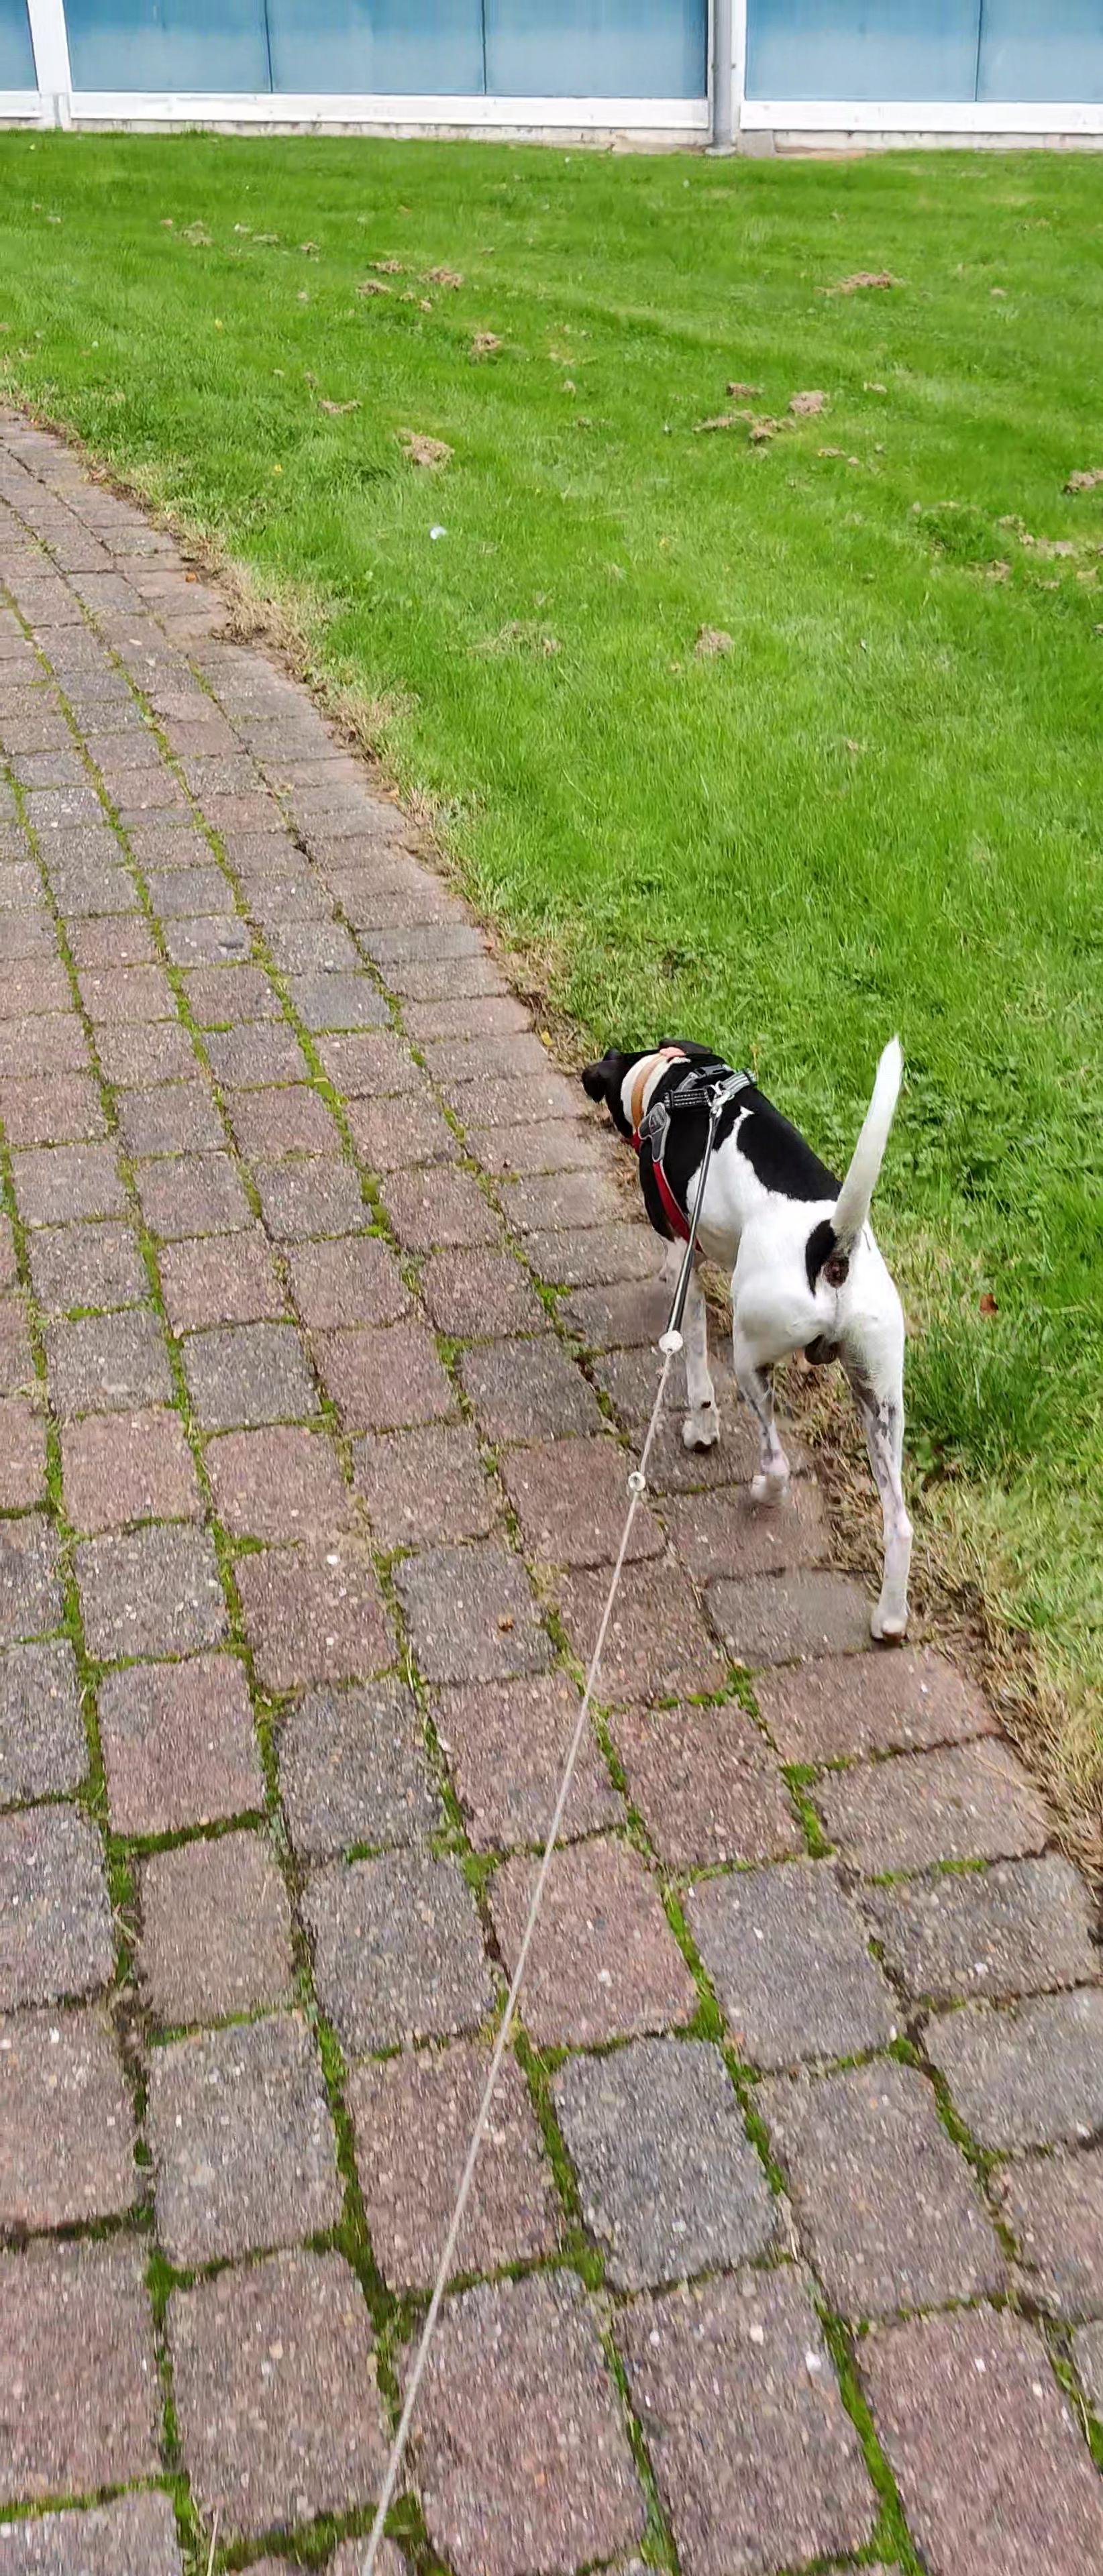Dog: (574, 1025, 942, 1653)
